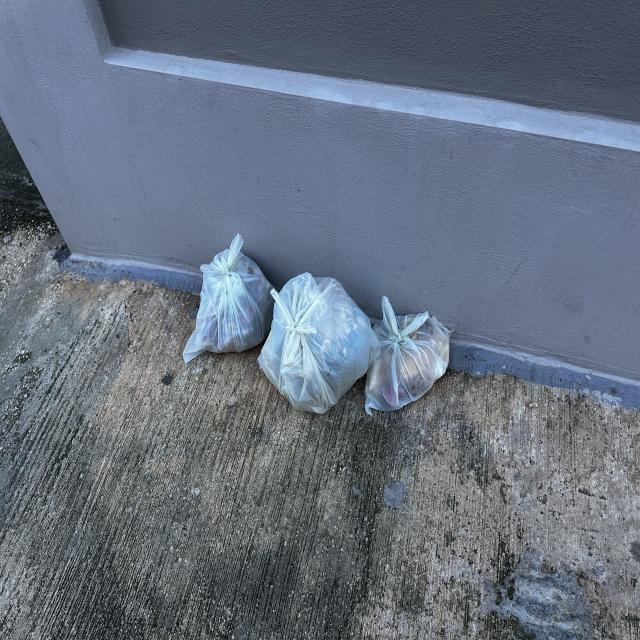Organic Waste -White Bags-: (183, 233, 453, 413)
